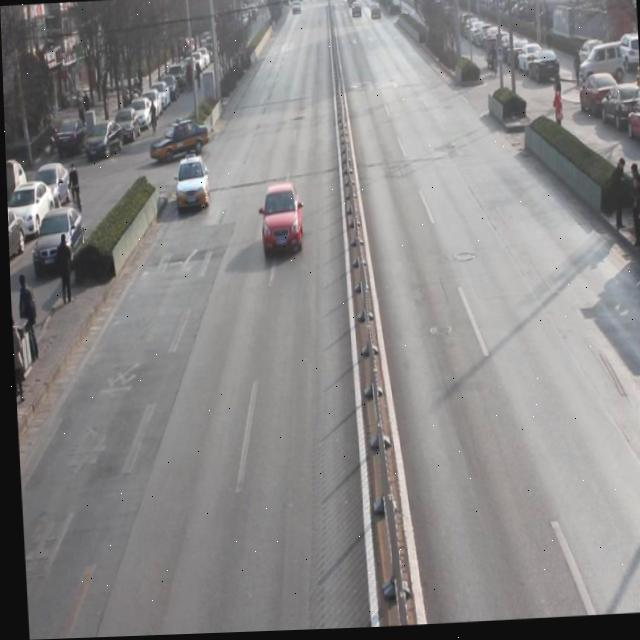car: (255, 179, 303, 265), (173, 151, 211, 219)
